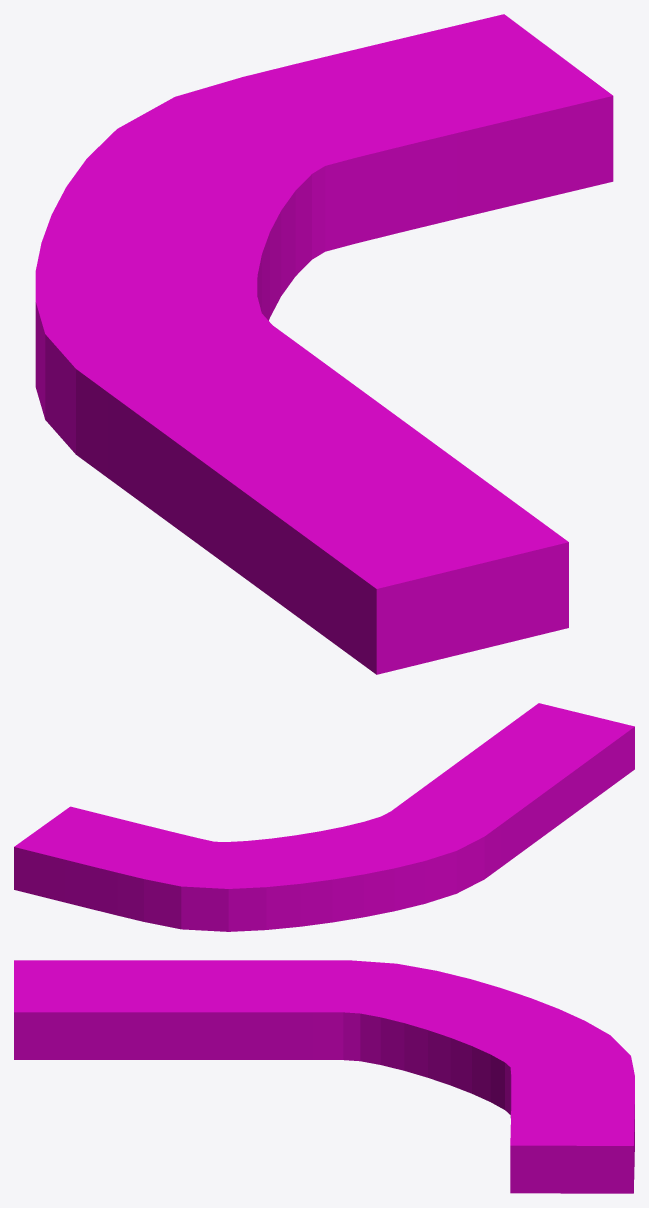
Rendered from TestCol2.fbx.
The picture shows the model from 3 angles, top to bottom: view 1: azimuth 30°, elevation 25°; view 2: azimuth 150°, elevation 25°; view 3: azimuth 270°, elevation 25°; orthographic projection. The views are drawn at different scales.
Parts seen in each view (by area): view 1: TestCol2; view 2: TestCol2; view 3: TestCol2.
Boxes of the visible parts, x1,y1,x2,y2 form: TestCol2: (35,14,613,674); TestCol2: (14,703,634,931); TestCol2: (14,960,634,1193).
Size of the model in its own units: 708 by 84.77 by 1000.
